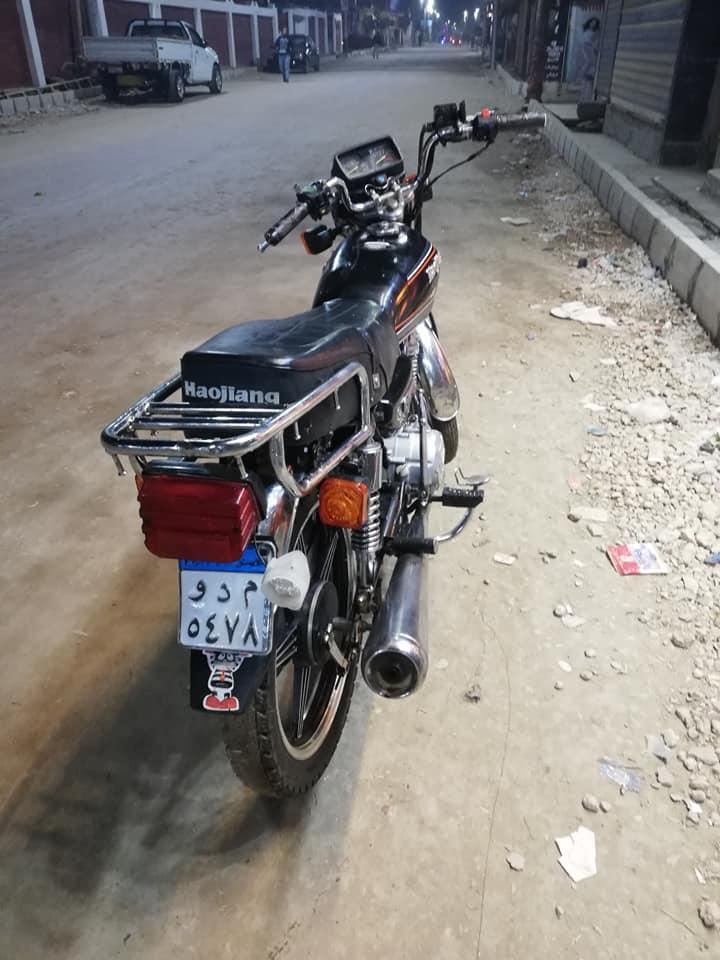License Plate: (174, 545, 274, 658)
